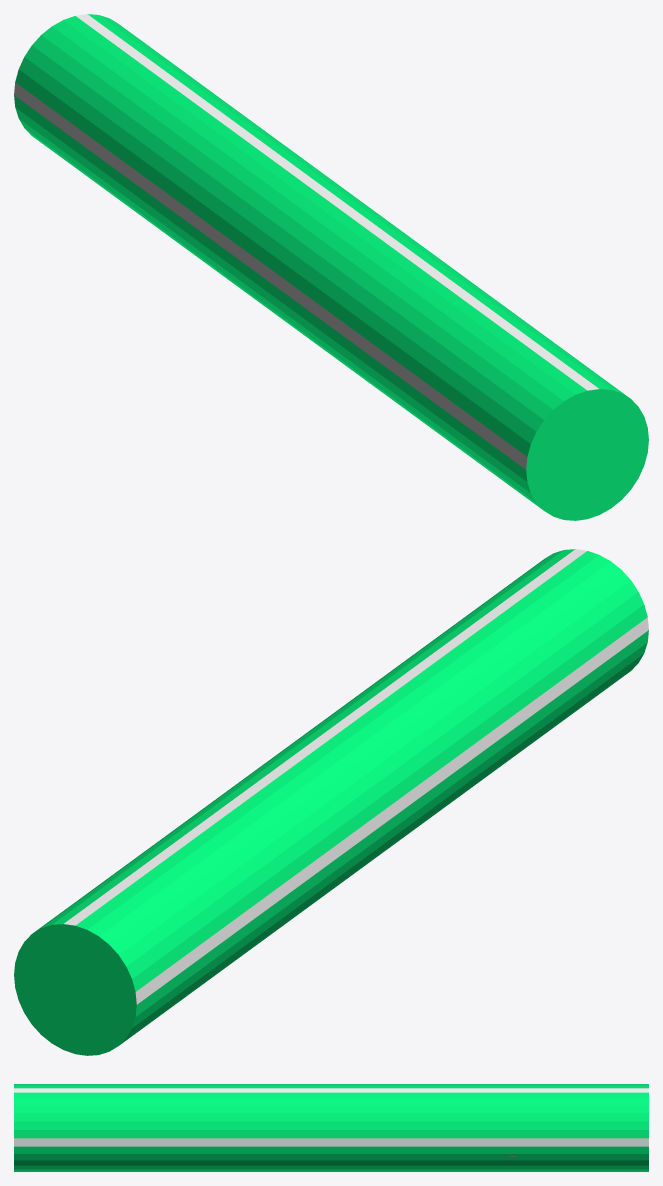
The model's file is Beam.obj.
The picture shows the model from 3 angles, top to bottom: view 1: azimuth 30°, elevation 25°; view 2: azimuth 150°, elevation 25°; view 3: azimuth 270°, elevation 25°; orthographic projection. The views are drawn at different scales.
Parts seen in each view (by area): view 1: 円柱; view 2: 円柱; view 3: 円柱.
Boxes of the visible parts, <box> form: 円柱: <box>14,14,648,520</box>; 円柱: <box>14,549,648,1055</box>; 円柱: <box>14,1084,648,1171</box>.
Bounding box in the file's own units: 2 × 2 × 14.45.
2 materials, 2 textured.
